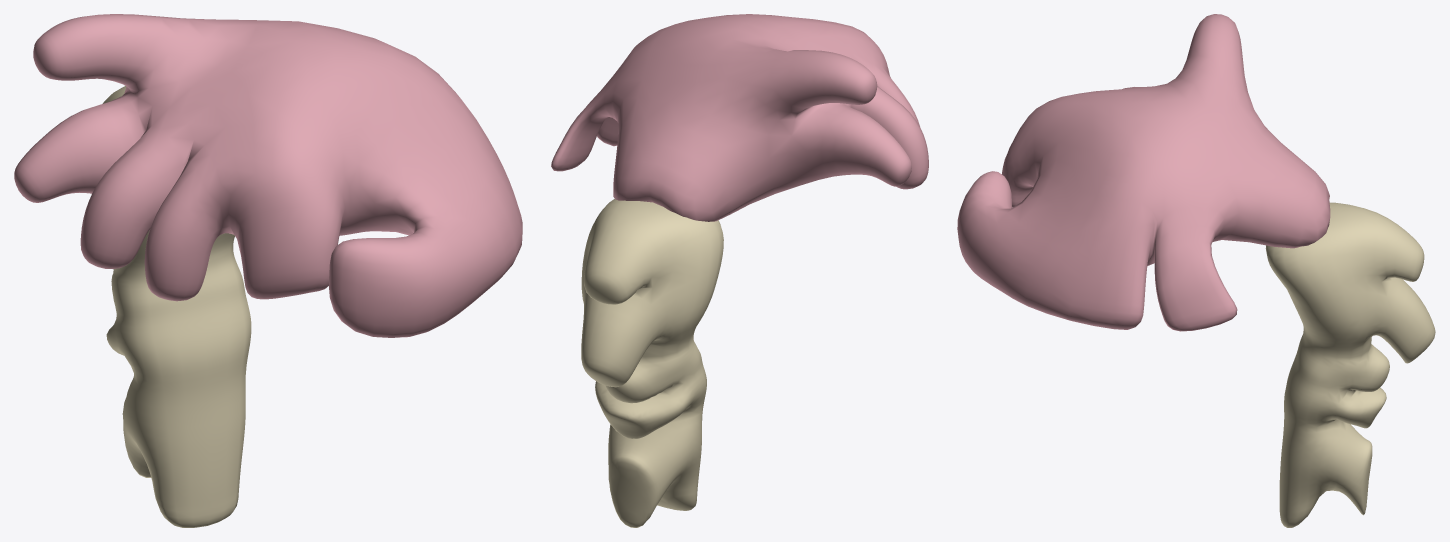
Rendered from Mane_09.fbx.
3 views of the same model, side by side, from view 1: azimuth 30°, elevation 25°; view 2: azimuth 150°, elevation 25°; view 3: azimuth 270°, elevation 25° (orthographic). The views are drawn at different scales.
Visible parts, largest first — view 1: Mane_09; view 2: Mane_09; view 3: Mane_09.
Part boxes in pixels (left/top/right/bottom): Mane_09: left=14, top=14, right=522, bottom=527; Mane_09: left=551, top=14, right=928, bottom=527; Mane_09: left=957, top=14, right=1435, bottom=527.
Size of the model in its own units: 1.62 by 2.03 by 1.99.
